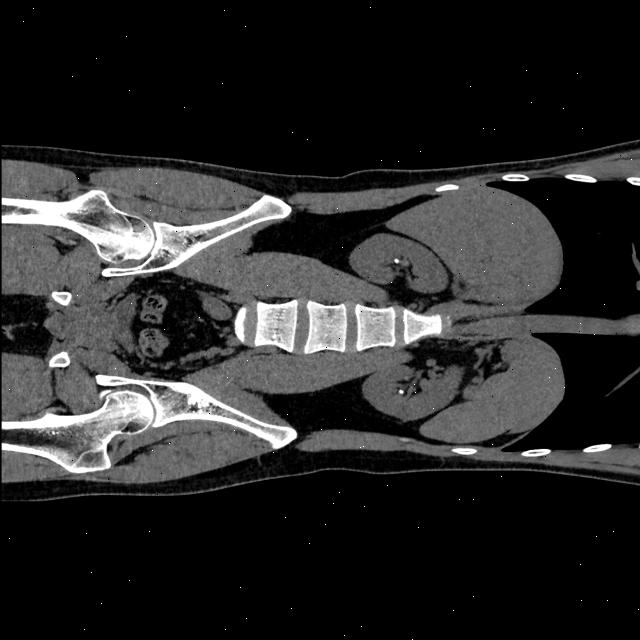kidneystone: (393, 259, 399, 264), (397, 390, 402, 395)
